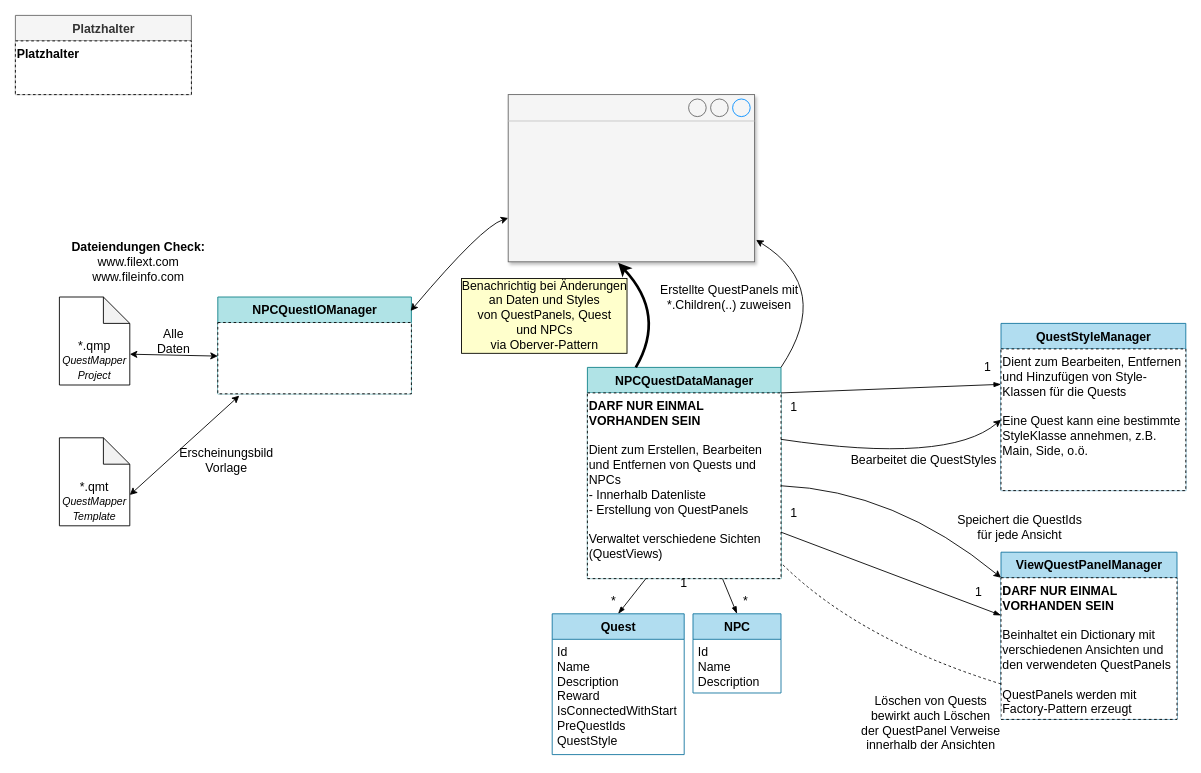
This 1201x773 diagram has some shape labels left out. The shapes that lost their labels are listed below. From the top down, each one's centre as x and y in pixels, then its label:
(x=632, y=179): QuestMapper
(x=314, y=358): Dient zum Speichern und Laden der Projektdateien und Templates
